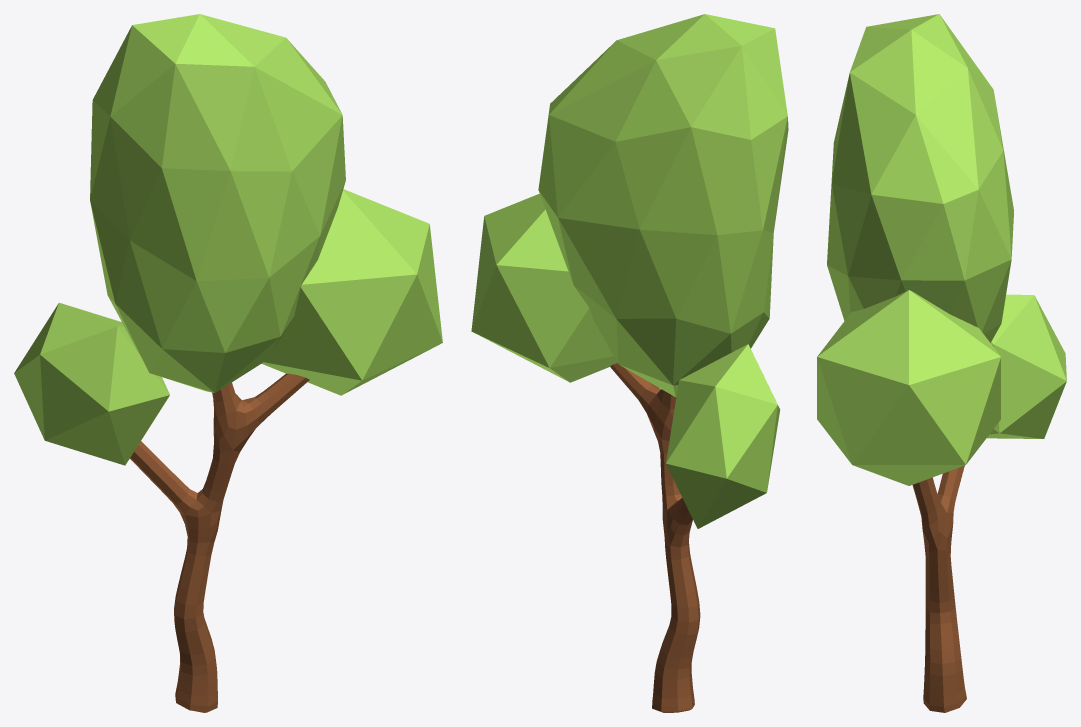
Rendered from TripleWood.fbx.
3 renders of one model, left to right at view 1: azimuth 30°, elevation 25°; view 2: azimuth 150°, elevation 25°; view 3: azimuth 270°, elevation 25°, orthographic. The views are drawn at different scales.
Parts seen in each view (by area): view 1: Icosphere.010, Icosphere.012, Icosphere.011, Cube.004; view 2: Icosphere.010, Icosphere.012, Icosphere.011, Cube.004; view 3: Icosphere.010, Icosphere.012, Icosphere.011, Cube.004.
Part boxes in pixels (<box>): Icosphere.010: <box>90,14,345,392</box>; Icosphere.012: <box>261,189,442,395</box>; Icosphere.011: <box>14,302,169,465</box>; Cube.004: <box>130,373,309,712</box>; Icosphere.010: <box>538,14,788,397</box>; Icosphere.012: <box>471,193,617,382</box>; Icosphere.011: <box>666,344,780,528</box>; Cube.004: <box>610,363,700,712</box>; Icosphere.010: <box>827,14,1013,342</box>; Icosphere.012: <box>817,290,1000,485</box>; Icosphere.011: <box>987,294,1066,438</box>; Cube.004: <box>912,465,966,712</box>.
Bounding box in the file's own units: 72.11 × 141 × 47.75.
